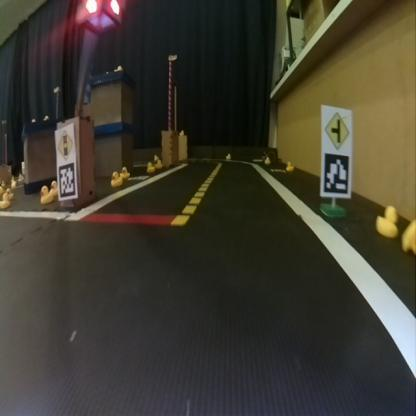Duckie: (376, 206, 396, 236), (401, 218, 415, 252), (40, 185, 52, 203), (110, 171, 122, 185), (0, 193, 9, 207), (146, 161, 155, 172), (121, 166, 129, 178), (286, 161, 292, 171), (264, 156, 271, 164), (155, 159, 162, 167), (6, 189, 12, 198), (225, 152, 231, 160)
Intersection sign: (323, 109, 350, 148)
QR code: (322, 151, 349, 194), (57, 162, 74, 197)
Signal sign: (56, 129, 73, 160)
Traffic light: (76, 0, 122, 31)
